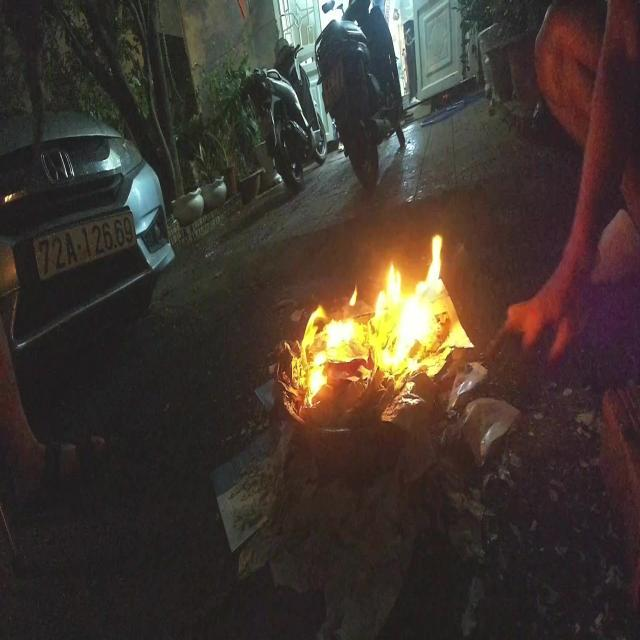Fire: (286, 233, 450, 408)
